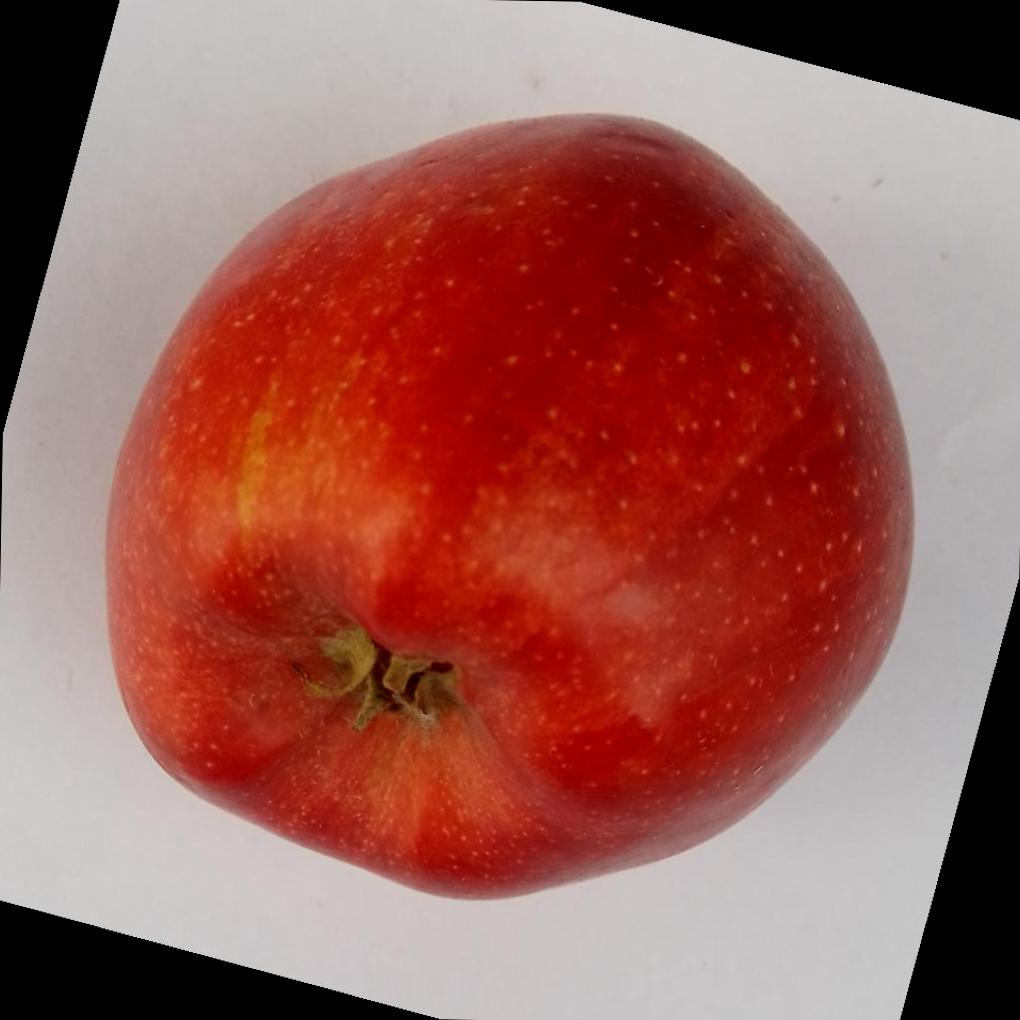FreshGuava: (99, 109, 912, 902)
